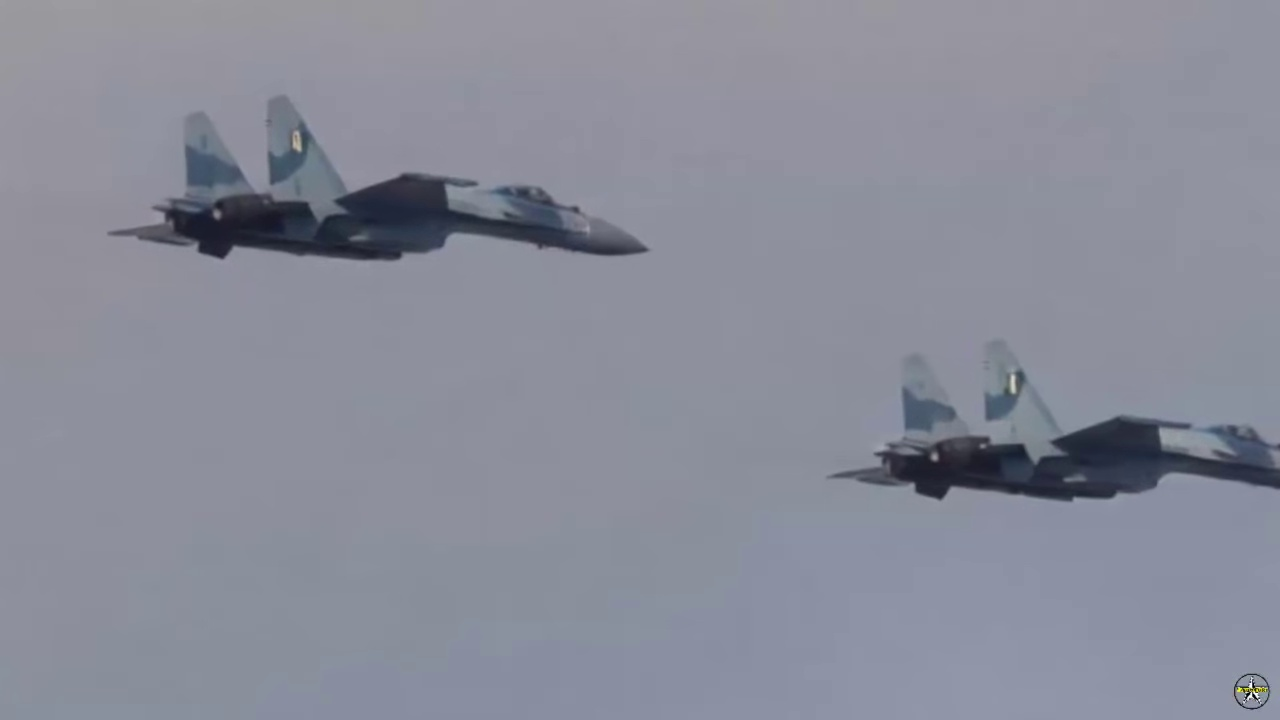Su35: (92, 94, 654, 280), (817, 341, 1280, 519)
